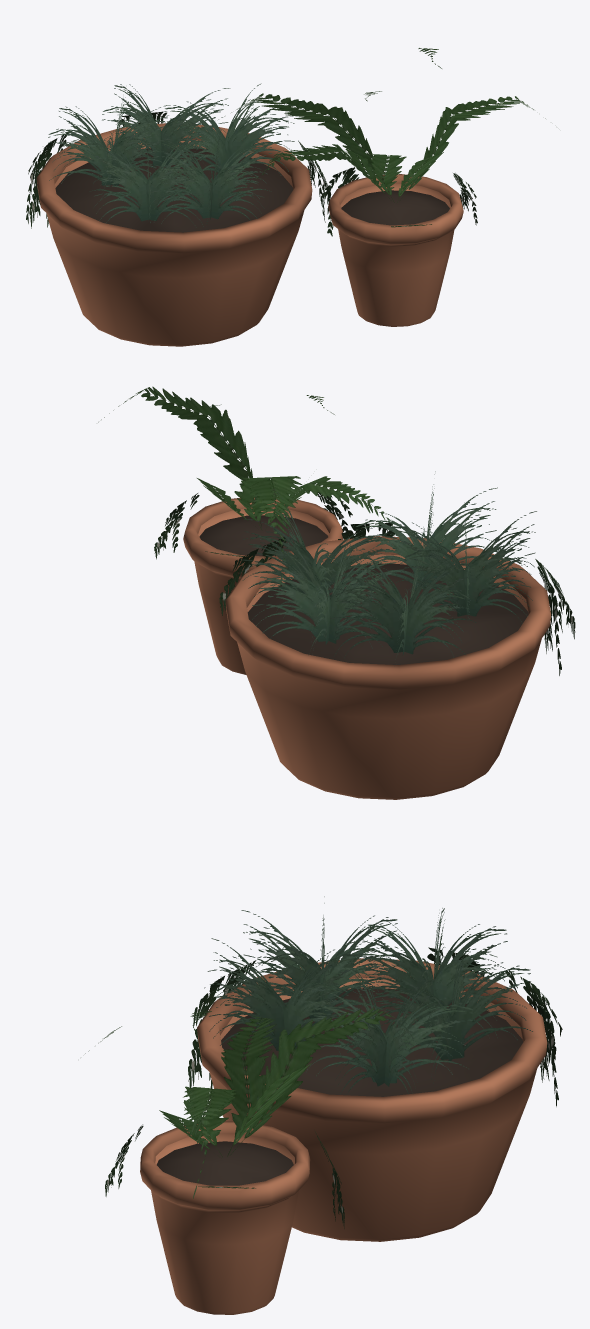
Rendered from courtyard_pots_mast.gltf.
The picture shows the model from 3 angles, top to bottom: view 1: azimuth 30°, elevation 25°; view 2: azimuth 150°, elevation 25°; view 3: azimuth 270°, elevation 25°; orthographic projection. The views are drawn at different scales.
Parts seen in each view (by area): view 1: CourtyardPotsMast_Pot0, CourtyardPotsMast_PlantsNoCollide, CourtyardPotsMast_Pot1, CourtyardPotsMast_Pot0Soil, CourtyardPotsMast_Pot1Soil; view 2: CourtyardPotsMast_Pot0, CourtyardPotsMast_PlantsNoCollide, CourtyardPotsMast_Pot0Soil, CourtyardPotsMast_Pot1, CourtyardPotsMast_Pot1Soil; view 3: CourtyardPotsMast_PlantsNoCollide, CourtyardPotsMast_Pot0, CourtyardPotsMast_Pot1, CourtyardPotsMast_Pot0Soil, CourtyardPotsMast_Pot1Soil.
Part boxes in pixels (box(x1,y1,x2,y2)): CourtyardPotsMast_Pot0: box(36, 123, 312, 346); CourtyardPotsMast_PlantsNoCollide: box(26, 48, 545, 236); CourtyardPotsMast_Pot1: box(328, 174, 463, 326); CourtyardPotsMast_Pot0Soil: box(55, 148, 293, 232); CourtyardPotsMast_Pot1Soil: box(341, 190, 449, 225); CourtyardPotsMast_Pot0: box(225, 536, 551, 799); CourtyardPotsMast_PlantsNoCollide: box(98, 386, 575, 675); CourtyardPotsMast_Pot0Soil: box(247, 563, 528, 664); CourtyardPotsMast_Pot1: box(183, 498, 342, 674); CourtyardPotsMast_Pot1Soil: box(199, 515, 327, 556); CourtyardPotsMast_PlantsNoCollide: box(85, 896, 562, 1228); CourtyardPotsMast_Pot0: box(197, 958, 547, 1241); CourtyardPotsMast_Pot1: box(140, 1121, 310, 1314); CourtyardPotsMast_Pot0Soil: box(221, 987, 523, 1096); CourtyardPotsMast_Pot1Soil: box(156, 1141, 293, 1185).
Bounding box in the file's own units: 1.74 × 0.86 × 1.45.
Materials: 3 (1 with a texture image).
